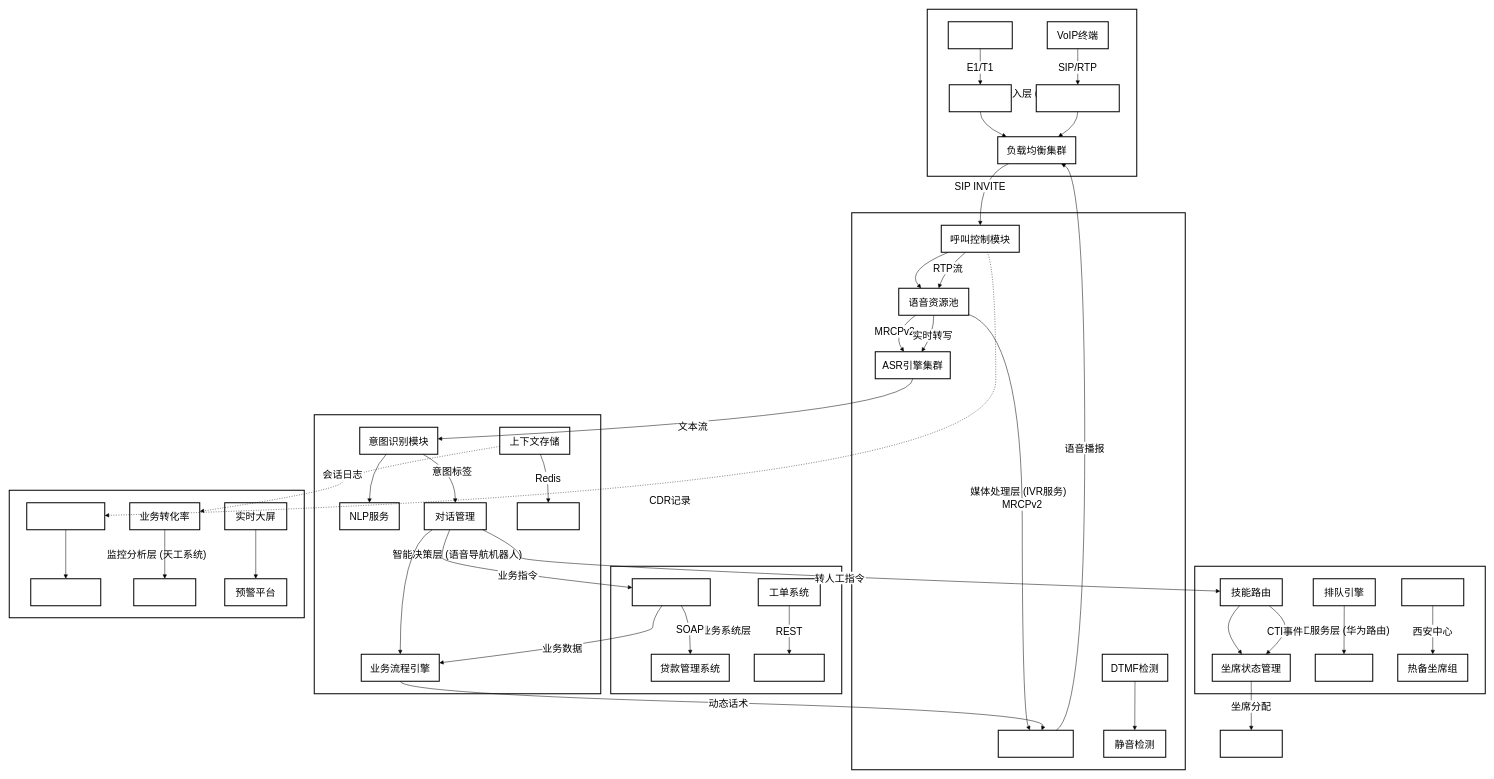
This 1494x779 diagram has some shape labels left out. The shapes that lost their labels are listed below. From the top down, each one's centre as x and y in pixels, then its label:
point (980, 35): PSTN中继
point (980, 98): 媒体网关
point (1078, 98): SBC边界控制器
point (65, 516): 呼叫质量分析
point (548, 516): 会话快照
point (65, 592): 语音识别率
point (164, 592): 坐席效能
point (671, 592): 核心客户系统
point (1432, 592): 灾备切换
point (789, 668): 知识库系统
point (1343, 668): VIP通道
point (1036, 744): TTS引擎集群
point (1251, 744): 坐席系统
